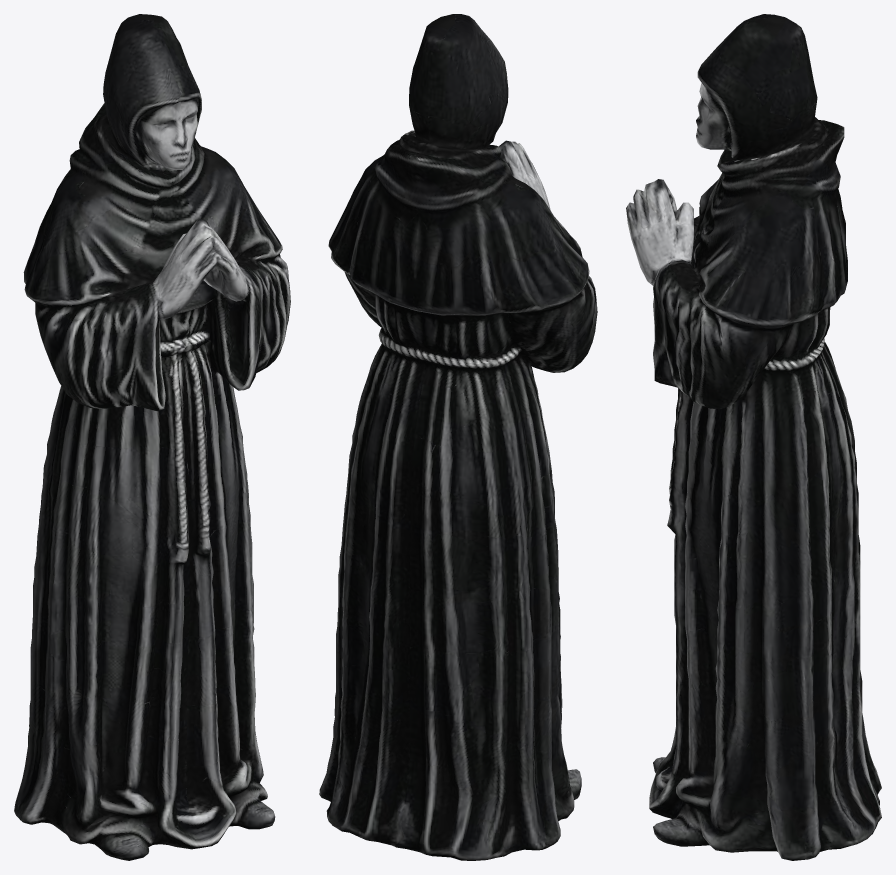
File: Clergy_Novice.glb
3 renders of one model, left to right at view 1: azimuth 30°, elevation 25°; view 2: azimuth 150°, elevation 25°; view 3: azimuth 270°, elevation 25°, orthographic.
Size of the model in its own units: 0.6145 by 1.91 by 0.5597.
1 material, 1 textured.
